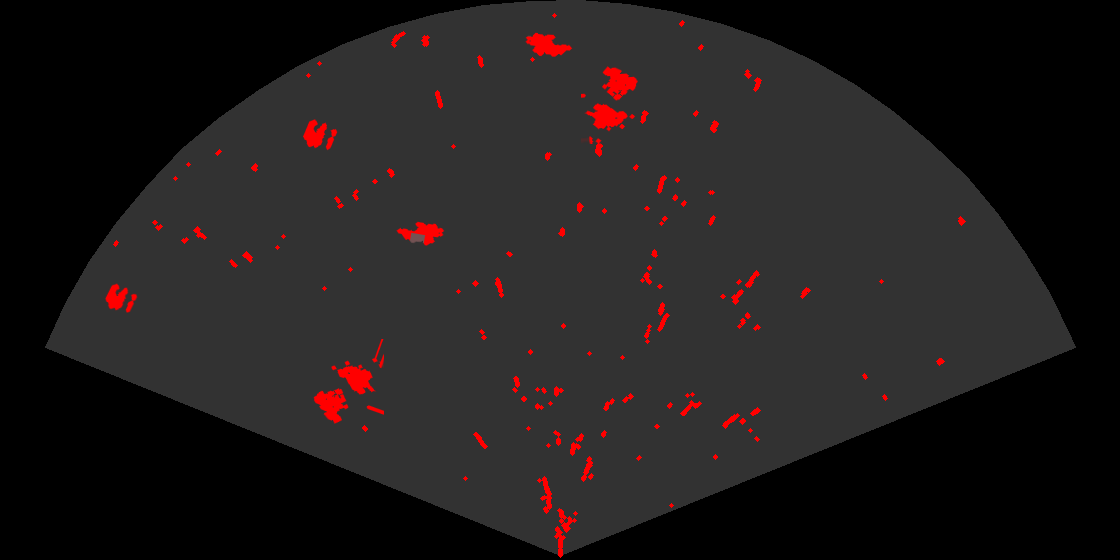AUV: (395, 220, 446, 247), (524, 31, 574, 58)
ball: (301, 118, 339, 152), (103, 282, 139, 314)
cage: (312, 339, 384, 425), (581, 65, 639, 144)
